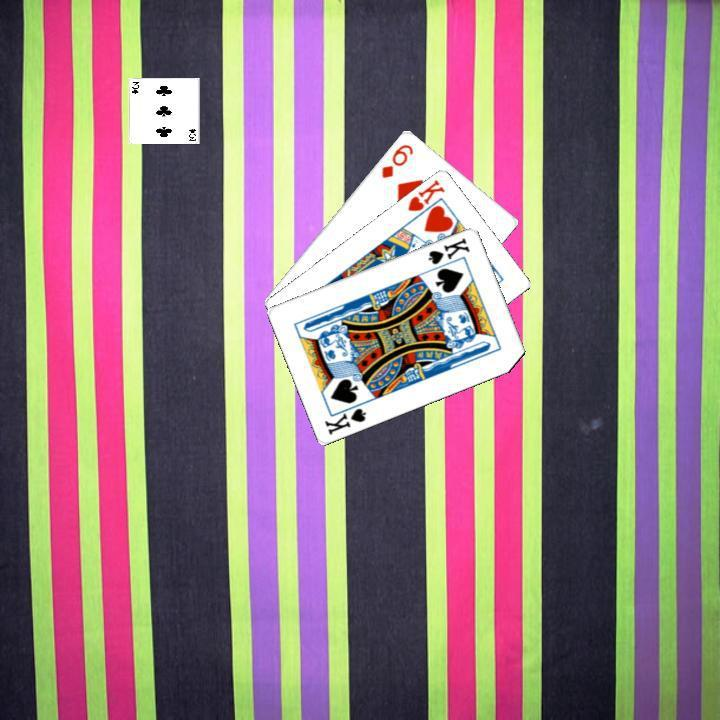6: (377, 139, 415, 180)
K: (320, 396, 368, 436), (403, 174, 447, 213), (424, 233, 472, 266)
